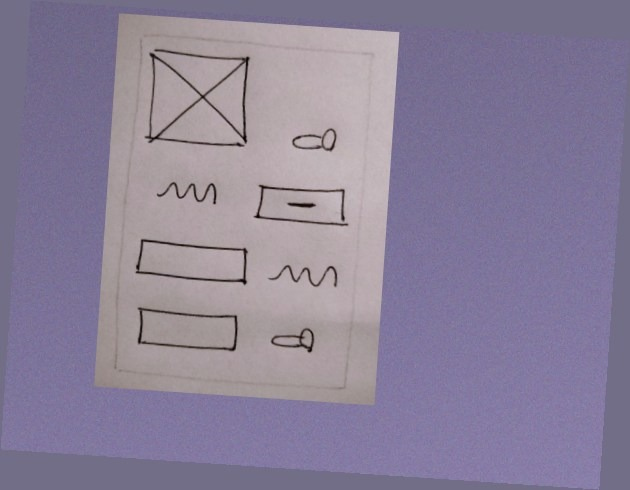button: (247, 180, 355, 234)
image: (140, 45, 254, 155)
switch: (283, 123, 350, 162), (265, 320, 323, 363)
text: (266, 255, 341, 296), (149, 173, 223, 211)
text_input: (130, 235, 252, 294), (129, 303, 244, 359)
